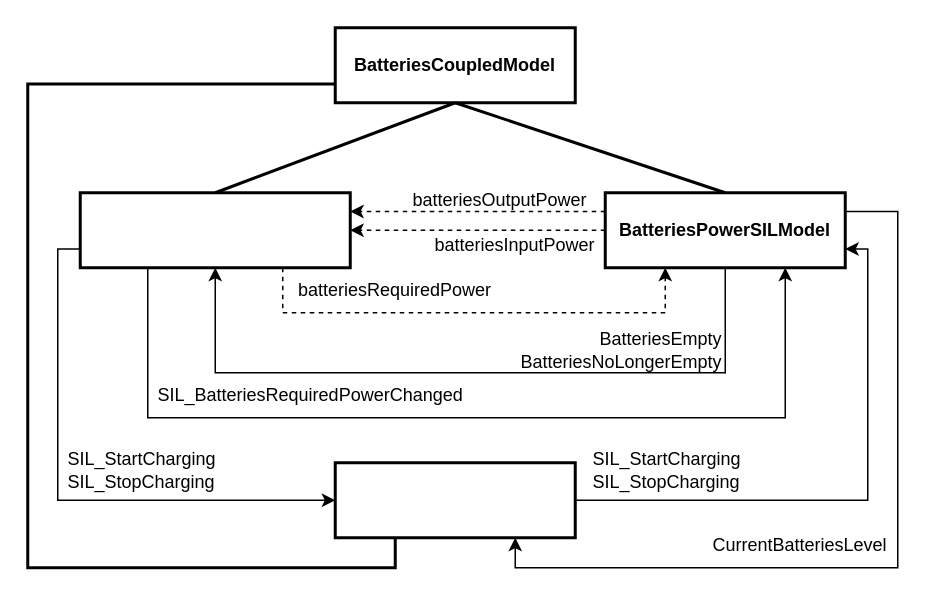
Image size: 936x606. Some labels were removed from this diagram. Each missing label, with the box of its shape:
BatteriesStateSILModel: (333, 460, 576, 538)
BatteriesUnitTesterSILModel: (78, 190, 351, 268)
